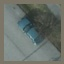car: (17, 17, 43, 45)
